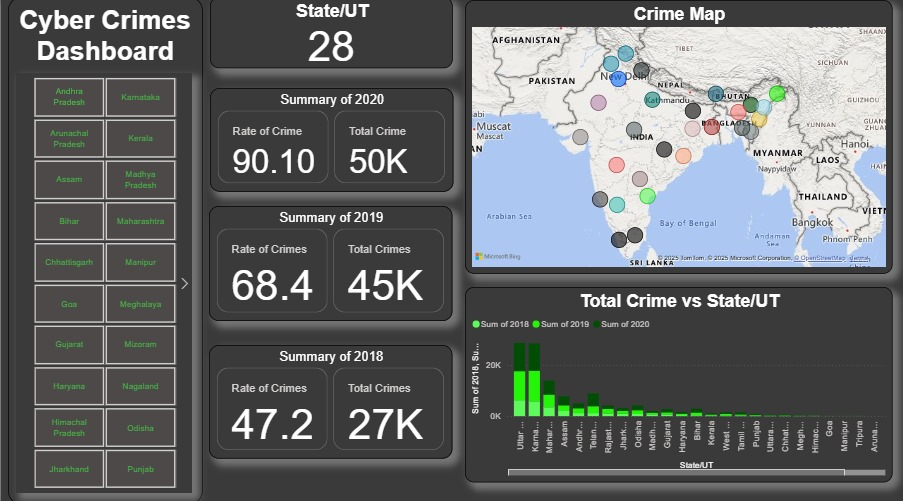

The dashboard page shown, as its layout file describes it:
{"tool":"powerbi","page":{"name":"Overview Page","canvas":[1280,720],"ordinal":0},"visuals":[{"type":"textbox","box":[9.3,0,275.6,719.4],"z":0},{"type":"card","title":"State/UT","fields":{"Values":["CountNonNull(Main_Data.SL)"]},"box":[296.2,0,344.4,100.6],"z":1000},{"type":"cardVisual","title":"Summary of 2020","fields":{"Data":["Sum(Main_Data.Rate of  Cyber Crimes (2020))","Sum(Main_Data.2020)"]},"box":[296.8,128.7,345,146.6],"z":2000},{"type":"cardVisual","title":"Summary of 2019","fields":{"Data":["Sum(Main_Data.Rate of Cyber crimes(2019))","Sum(Main_Data.2019)"]},"box":[295,296.8,345,162.7],"z":3000},{"type":"cardVisual","title":"Summary of 2018","fields":{"Data":["Sum(Main_Data.Rate of Cyber crimes(2018))","Sum(Main_Data.2018)"]},"box":[295,493.4,345,160.9],"z":4000},{"type":"map","title":"Crime Map","fields":{"Category":["Main_Data.State/UT"],"Series":["Main_Data.Rate of  Cyber Crimes (2020)"]},"box":[657.9,3.6,606,387.9],"z":5000},{"type":"columnChart","title":"Total Crime vs State/UT","fields":{"Category":["Main_Data.State/UT"],"Y":["Sum(Main_Data.2018)","Sum(Main_Data.2019)","Sum(Main_Data.2020)"]},"box":[657.9,411.2,606,277.1],"z":6000},{"type":"slicer","fields":{"Values":["Main_Data.State/UT"]},"box":[21.5,107.3,250.3,595.3],"z":7000}]}

Visuals, with their boxes in screenshot pixels (x1, y1, x2, y2), scaled from the page's 1280x720 canvas onto the 903x501 screenshot:
textbox: region(7, 0, 201, 500)
"State/UT" card: region(209, 0, 452, 70)
"Summary of 2020" cardVisual: region(209, 90, 453, 192)
"Summary of 2019" cardVisual: region(208, 207, 452, 320)
"Summary of 2018" cardVisual: region(208, 343, 452, 455)
"Crime Map" map: region(464, 3, 892, 272)
"Total Crime vs State/UT" columnChart: region(464, 286, 892, 479)
slicer - Main_Data.State/UT: region(15, 75, 192, 489)
